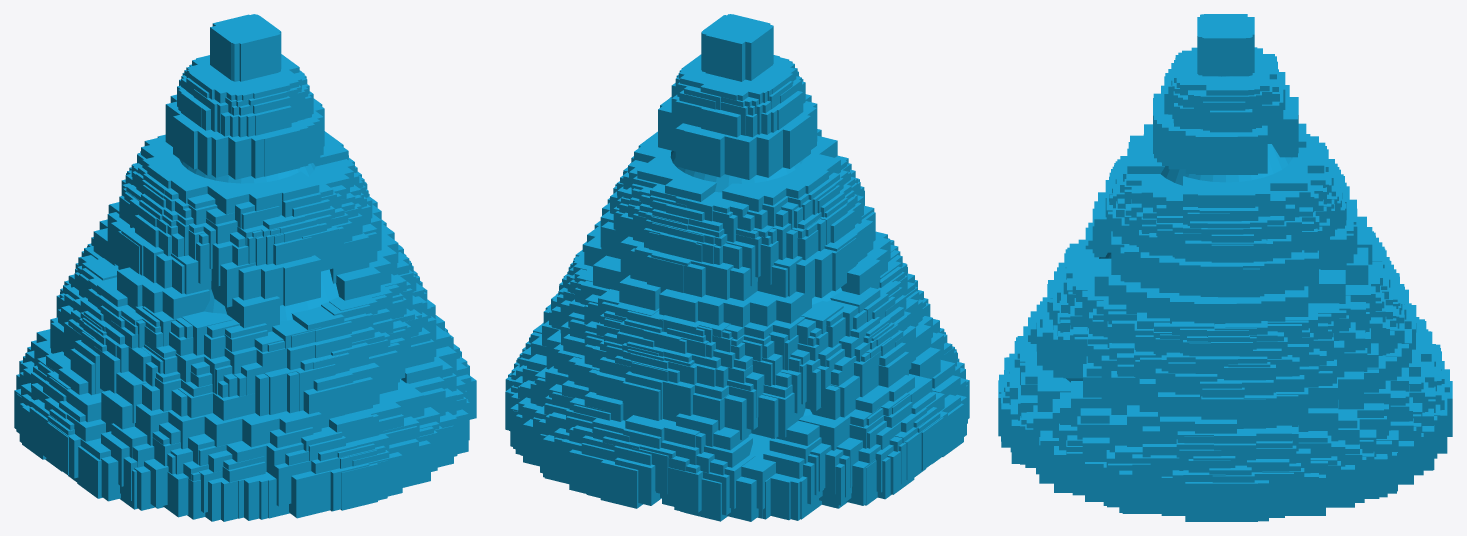
File: WaterStoneDust.fbx
3 renders of one model, left to right at view 1: azimuth 30°, elevation 25°; view 2: azimuth 150°, elevation 25°; view 3: azimuth 270°, elevation 25°, orthographic.
Parts seen in each view (by area): view 1: WaterStoneDust, WaterStoneDust|Cube.004|Dupli|1618, WaterStoneDust|Cube.004|Dupli|363, WaterStoneDust|Cube.004|Dupli|486, WaterStoneDust|Cube.004|Dupli|1324, WaterStoneDust|Cube.004|Dupli|1648, WaterStoneDust|Cube.004|Dupli|938, WaterStoneDust|Cube.004|Dupli|781, WaterStoneDust|Cube.004|Dupli|440, WaterStoneDust|Cube.004|Dupli|2, WaterStoneDust|Cube.004|Dupli|1058, WaterStoneDust|Cube.004|Dupli|1666 (+86 smaller); view 2: WaterStoneDust|Cube.004|Dupli|1474, WaterStoneDust|Cube.004|Dupli|1220, WaterStoneDust|Cube.004|Dupli|318, WaterStoneDust, WaterStoneDust|Cube.004|Dupli|257, WaterStoneDust|Cube.004|Dupli|278, WaterStoneDust|Cube.004|Dupli|58, WaterStoneDust|Cube.004|Dupli|240, WaterStoneDust|Cube.004|Dupli|1058, WaterStoneDust|Cube.004|Dupli|434, WaterStoneDust|Cube.004|Dupli|146, WaterStoneDust|Cube.004|Dupli|831 (+75 smaller); view 3: WaterStoneDust|Cube.004|Dupli|174, WaterStoneDust|Cube.004|Dupli|960, WaterStoneDust|Cube.004|Dupli|843, WaterStoneDust|Cube.004|Dupli|1202, WaterStoneDust, WaterStoneDust|Cube.004|Dupli|1286, WaterStoneDust|Cube.004|Dupli|259, WaterStoneDust|Cube.004|Dupli|1354, WaterStoneDust|Cube.004|Dupli|681, WaterStoneDust|Cube.004|Dupli|760, WaterStoneDust|Cube.004|Dupli|937, WaterStoneDust|Cube.004|Dupli|366 (+86 smaller).
Part boxes in pixels (x1=…): WaterStoneDust: x1=179, y1=159, x2=401, y2=380; WaterStoneDust|Cube.004|Dupli|1618: x1=289, y1=471, x2=330, y2=517; WaterStoneDust|Cube.004|Dupli|363: x1=280, y1=255, x2=320, y2=306; WaterStoneDust|Cube.004|Dupli|486: x1=261, y1=125, x2=300, y2=176; WaterStoneDust|Cube.004|Dupli|1324: x1=240, y1=23, x2=278, y2=81; WaterStoneDust|Cube.004|Dupli|1648: x1=340, y1=463, x2=377, y2=510; WaterStoneDust|Cube.004|Dupli|938: x1=225, y1=296, x2=279, y2=332; WaterStoneDust|Cube.004|Dupli|781: x1=303, y1=385, x2=344, y2=428; WaterStoneDust|Cube.004|Dupli|440: x1=211, y1=19, x2=265, y2=80; WaterStoneDust|Cube.004|Dupli|2: x1=336, y1=264, x2=380, y2=300; WaterStoneDust|Cube.004|Dupli|1058: x1=173, y1=115, x2=203, y2=169; WaterStoneDust|Cube.004|Dupli|1666: x1=162, y1=288, x2=209, y2=319; WaterStoneDust|Cube.004|Dupli|1474: x1=684, y1=126, x2=726, y2=177; WaterStoneDust|Cube.004|Dupli|1220: x1=705, y1=26, x2=758, y2=81; WaterStoneDust|Cube.004|Dupli|318: x1=600, y1=459, x2=642, y2=508; WaterStoneDust: x1=670, y1=150, x2=842, y2=455; WaterStoneDust|Cube.004|Dupli|257: x1=662, y1=467, x2=703, y2=512; WaterStoneDust|Cube.004|Dupli|278: x1=719, y1=134, x2=758, y2=179; WaterStoneDust|Cube.004|Dupli|58: x1=569, y1=449, x2=604, y2=497; WaterStoneDust|Cube.004|Dupli|240: x1=622, y1=381, x2=660, y2=420; WaterStoneDust|Cube.004|Dupli|1058: x1=783, y1=113, x2=810, y2=168; WaterStoneDust|Cube.004|Dupli|434: x1=754, y1=124, x2=788, y2=177; WaterStoneDust|Cube.004|Dupli|146: x1=660, y1=380, x2=696, y2=421; WaterStoneDust|Cube.004|Dupli|831: x1=647, y1=255, x2=683, y2=292; WaterStoneDust|Cube.004|Dupli|174: x1=1195, y1=129, x2=1237, y2=174; WaterStoneDust|Cube.004|Dupli|960: x1=1204, y1=21, x2=1245, y2=76; WaterStoneDust|Cube.004|Dupli|843: x1=1215, y1=480, x2=1257, y2=521; WaterStoneDust|Cube.004|Dupli|1202: x1=1119, y1=470, x2=1161, y2=512; WaterStoneDust: x1=1066, y1=76, x2=1320, y2=382; WaterStoneDust|Cube.004|Dupli|1286: x1=1185, y1=482, x2=1215, y2=521; WaterStoneDust|Cube.004|Dupli|259: x1=1218, y1=268, x2=1259, y2=297; WaterStoneDust|Cube.004|Dupli|1354: x1=1194, y1=295, x2=1236, y2=324; WaterStoneDust|Cube.004|Dupli|681: x1=1252, y1=472, x2=1293, y2=512; WaterStoneDust|Cube.004|Dupli|760: x1=1201, y1=396, x2=1243, y2=428; WaterStoneDust|Cube.004|Dupli|937: x1=1158, y1=392, x2=1200, y2=426; WaterStoneDust|Cube.004|Dupli|366: x1=1308, y1=270, x2=1345, y2=303.
Size of what is drawn, in the model's own units: 1.07 by 1.05 by 1.08.
